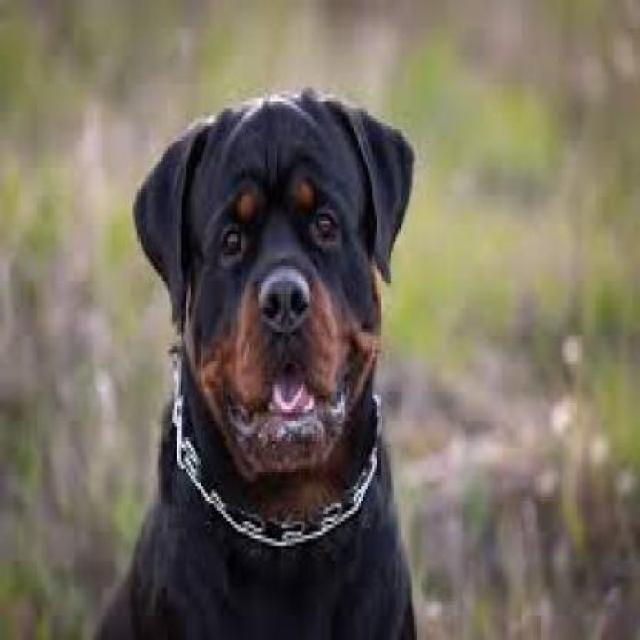animals: (111, 63, 554, 640)
